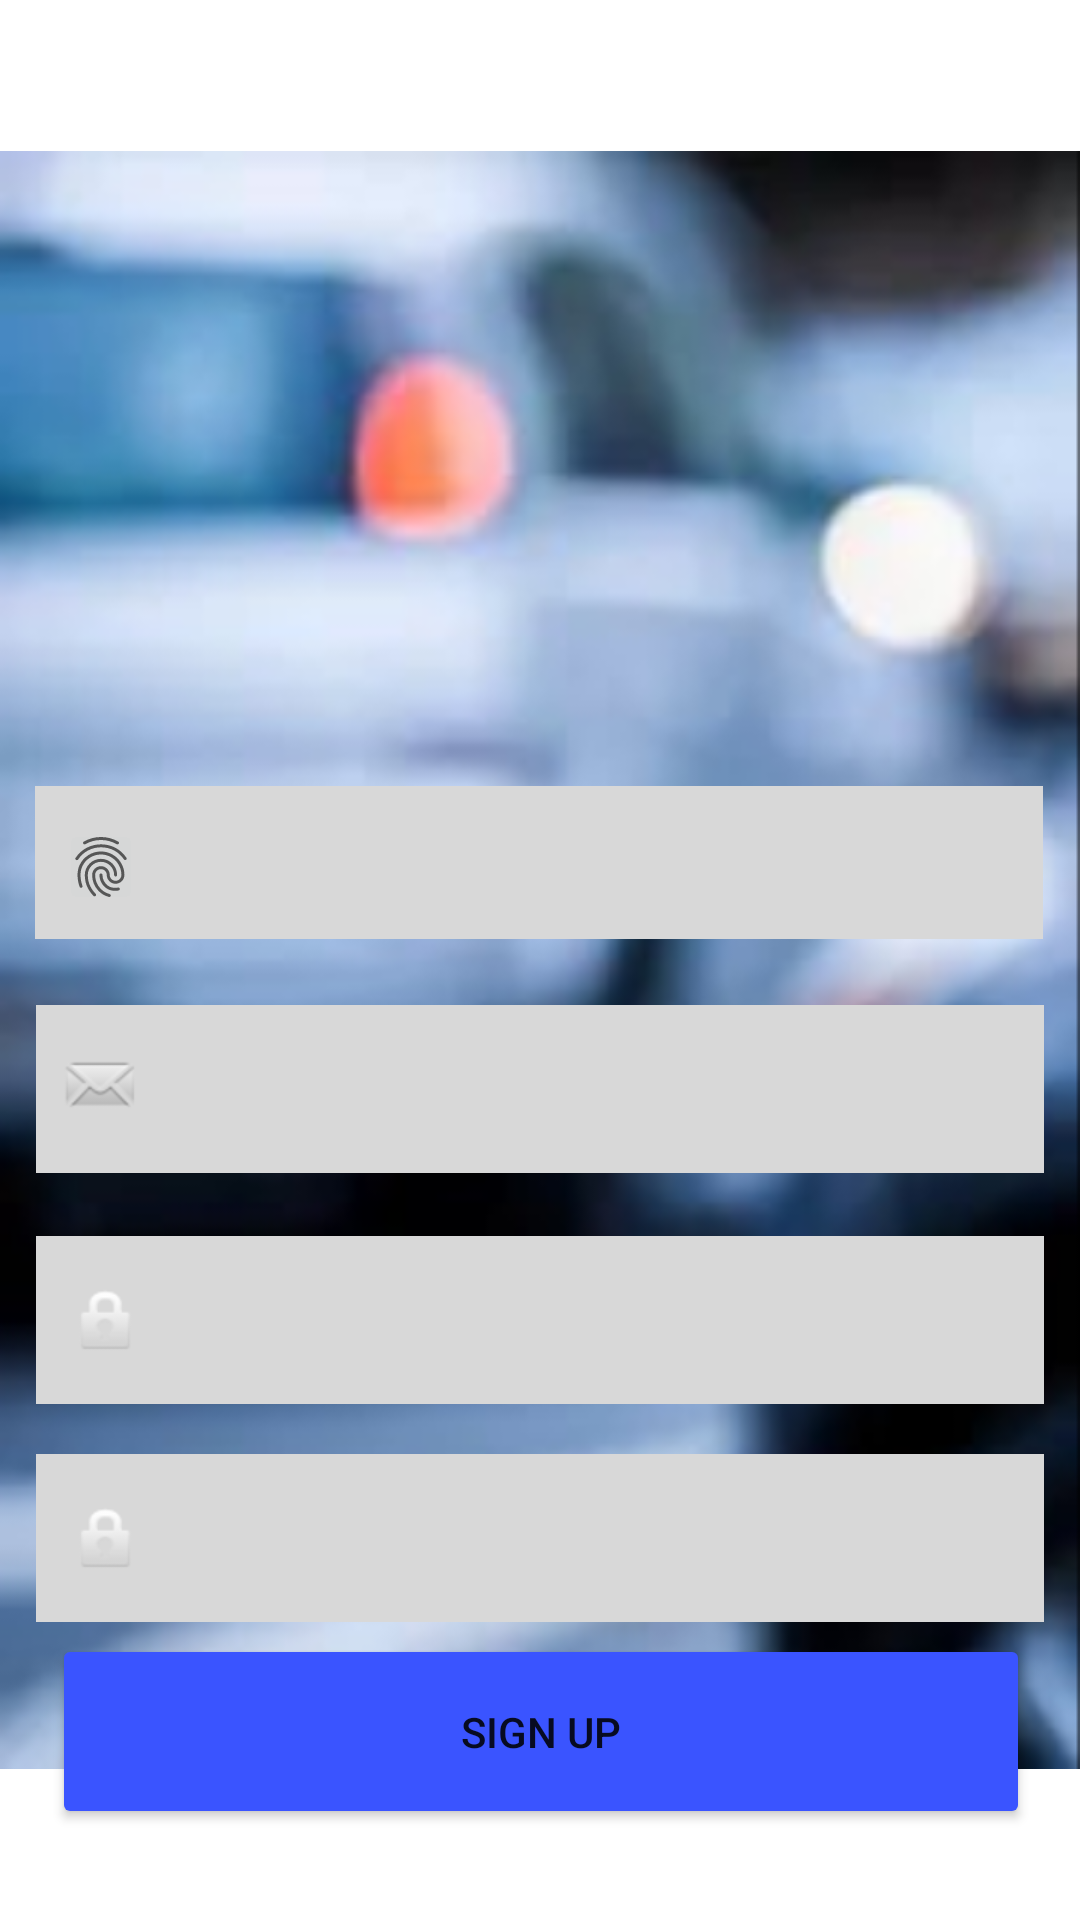

Where icons sit on this 1080*1920 app screen, as [x1=x1, y1=y1, x2=x2, y2=y2]:
sym action email: [x1=67, y1=1063, x2=131, y2=1106]
